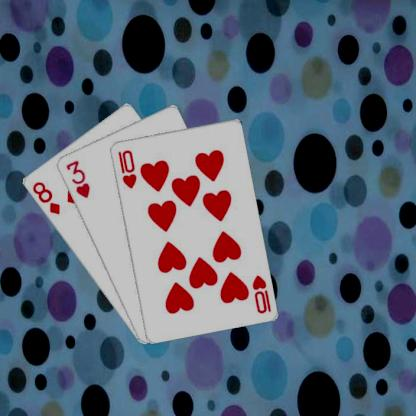10H: (249, 272, 272, 314), (115, 147, 137, 190)
3H: (63, 157, 91, 199)
8D: (29, 179, 61, 216)
